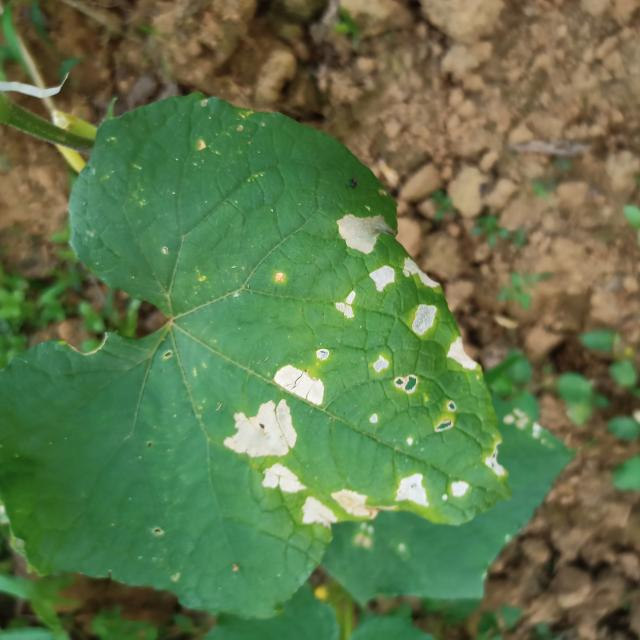disease_cucumber: (220, 360, 326, 460), (391, 470, 473, 508), (369, 255, 441, 296), (366, 356, 422, 406), (332, 208, 386, 256), (301, 491, 370, 526), (256, 462, 308, 494), (445, 329, 475, 375), (405, 302, 437, 336), (334, 287, 358, 324)
